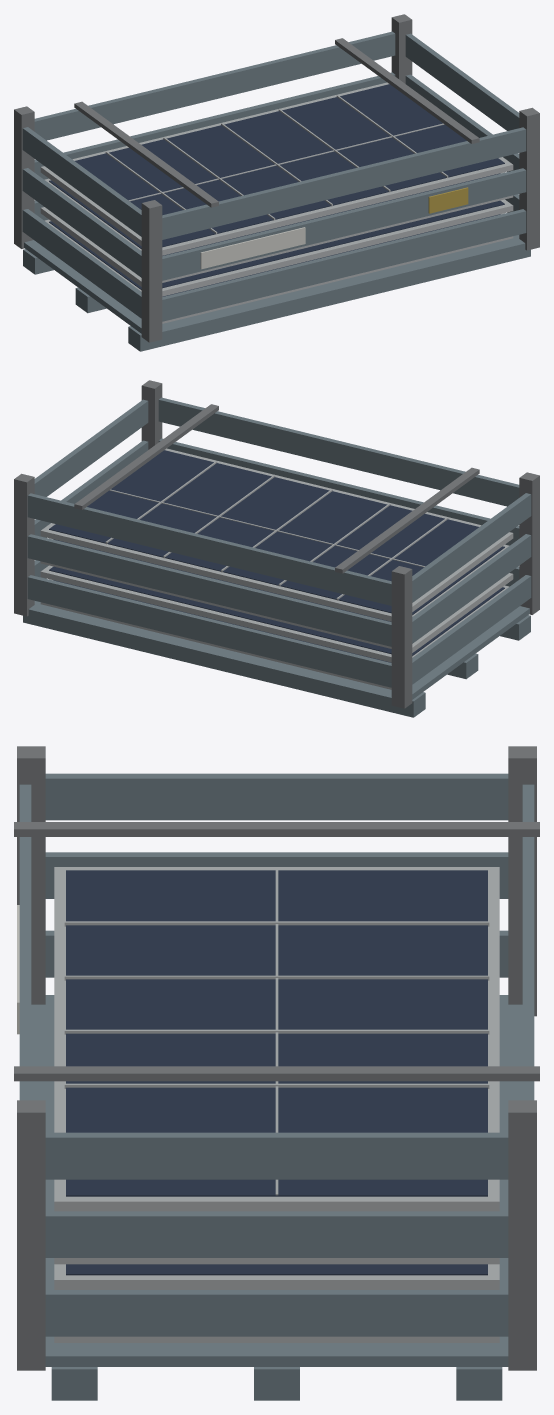
The model's file is astro_solar_panel_crate.fbx.
3 renders of one model, top to bottom at view 1: azimuth 30°, elevation 25°; view 2: azimuth 150°, elevation 25°; view 3: azimuth 270°, elevation 25°, orthographic. The views are drawn at different scales.
Parts seen in each view (by area): view 1: SolarPanelCrate_Body; view 2: SolarPanelCrate_Body; view 3: SolarPanelCrate_Body.
Part boxes in pixels (<box>): SolarPanelCrate_Body: <box>14,14,539,351</box>; SolarPanelCrate_Body: <box>14,380,539,717</box>; SolarPanelCrate_Body: <box>14,746,539,1400</box>.
Size of the model in its own units: 300 by 110 by 182.
